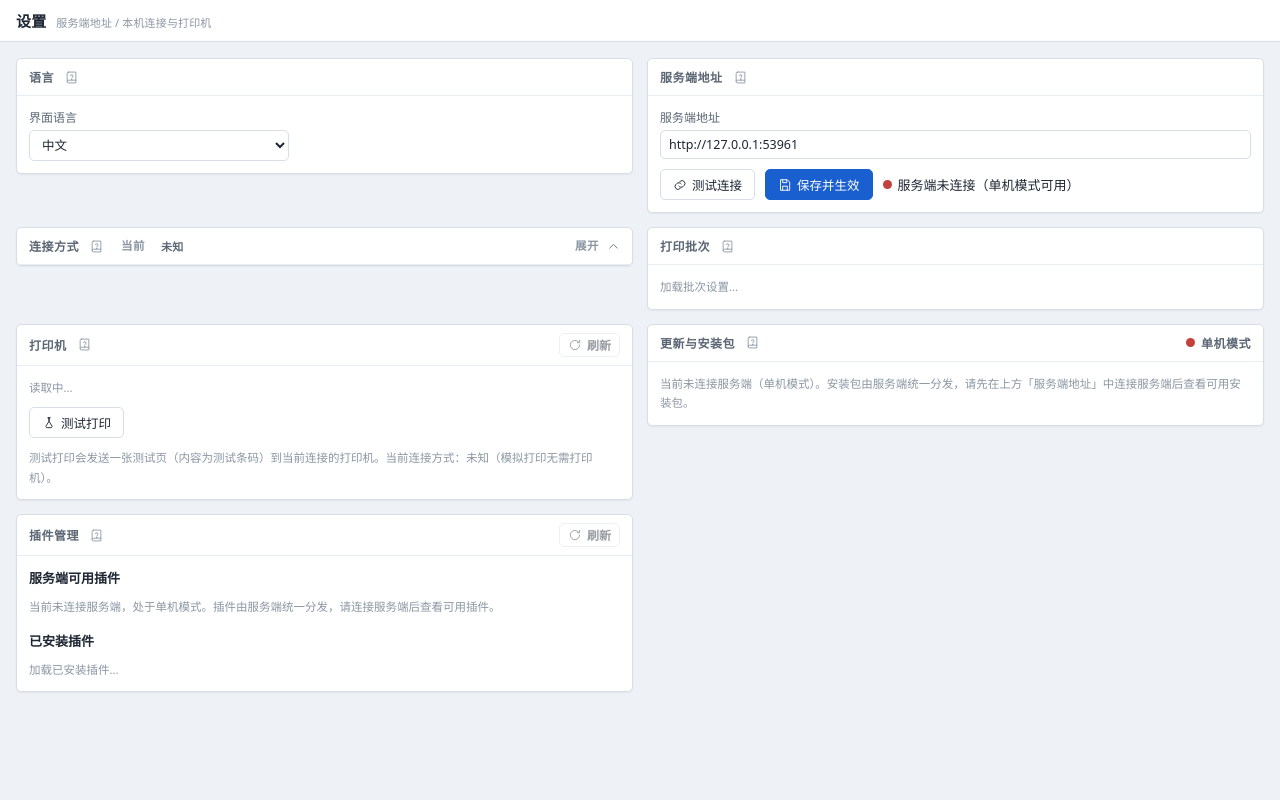
it: 服务端地址（F2） › 旧客户端（setHostConfig 失败）：回退浏览器本地保存并提示
Type "http://192.168.1.10:53961" into the field labelled "服务端地址" at (956, 144), box [660,130,1251,159]
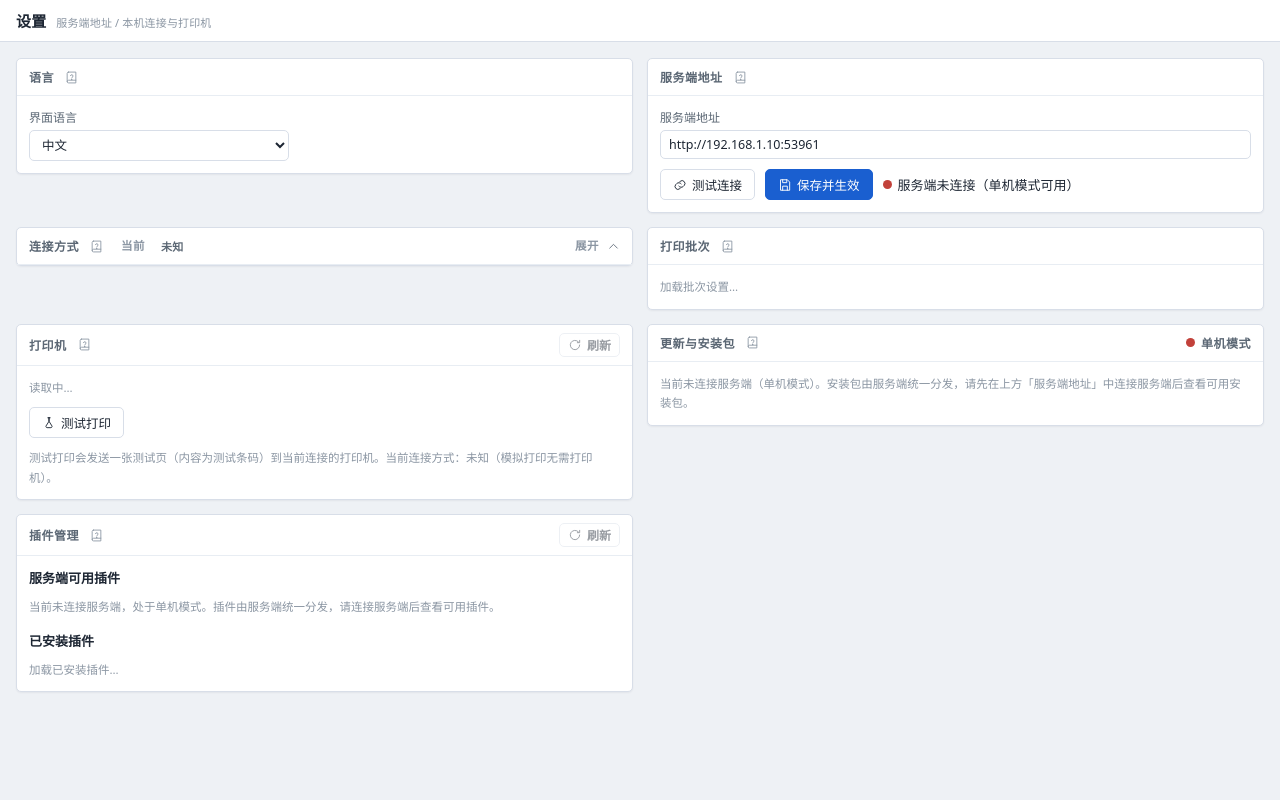
Click the button "保存并生效" at (819, 184), box [765,169,872,200]
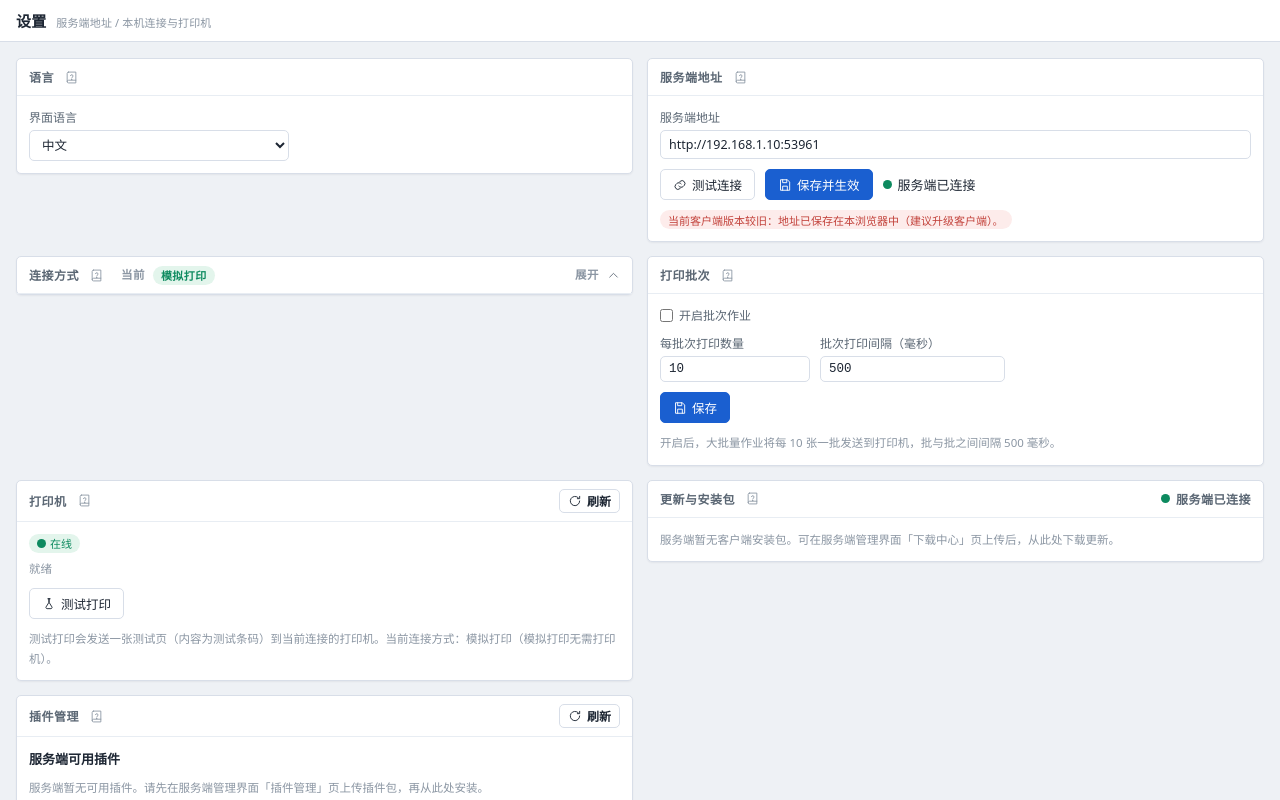
Now the text "当前客户端版本较旧：地址已保存在本浏览器中（建议升级客户端）。" is shown, box [660,210,1012,229]
